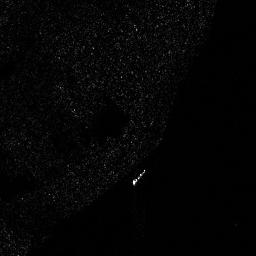ship: (131, 168, 146, 185)
